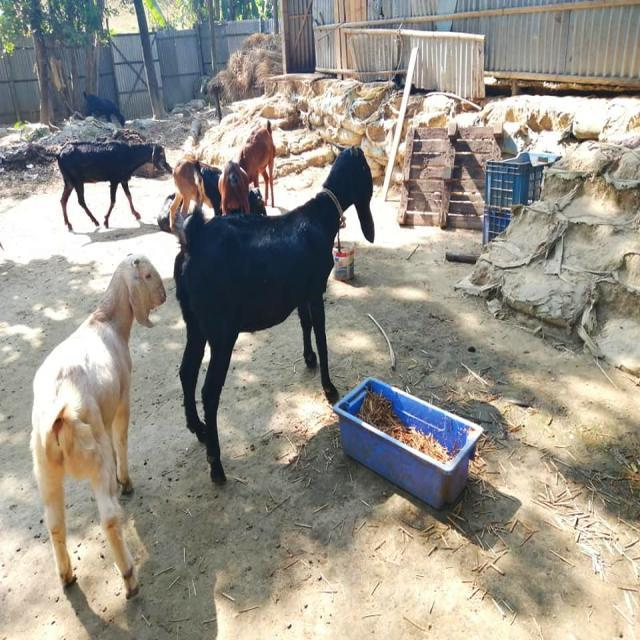Goat: (173, 142, 376, 484), (30, 252, 168, 600), (56, 139, 173, 232), (169, 156, 218, 233), (239, 118, 276, 207), (83, 90, 127, 127)
